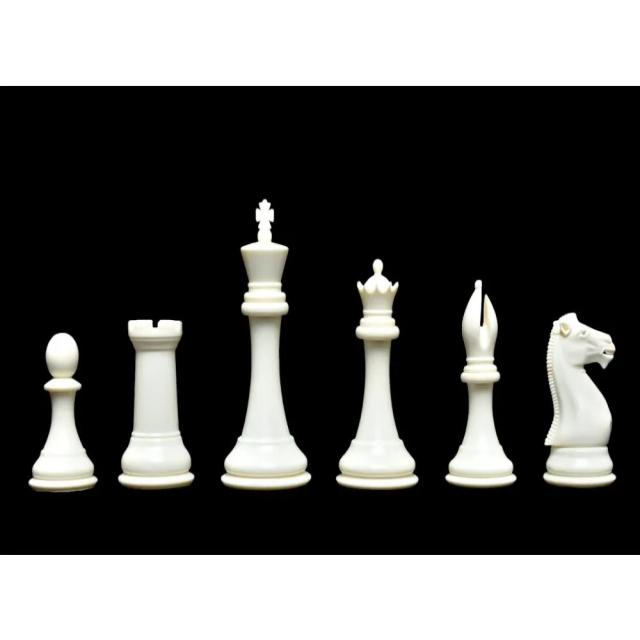white-bishop: (446, 280, 516, 488)
white-king: (221, 198, 311, 490)
white-knight: (543, 312, 616, 488)
white-pawn: (28, 333, 98, 492)
white-queen: (335, 259, 419, 490)
white-rook: (118, 320, 194, 490)
